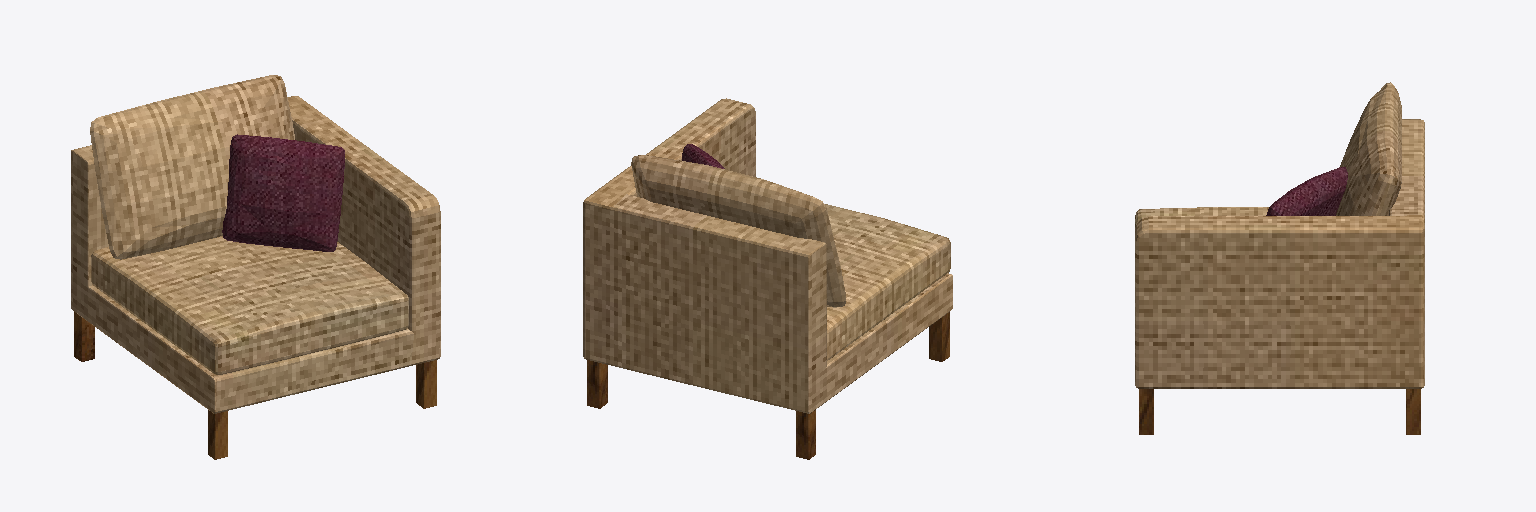
3 views of the same model, side by side, from view 1: azimuth 30°, elevation 25°; view 2: azimuth 150°, elevation 25°; view 3: azimuth 270°, elevation 25° (orthographic).
Visible parts, largest first — view 1: WickerLoveSeat_MSH1; view 2: WickerLoveSeat_MSH1; view 3: WickerLoveSeat_MSH1.
Boxes of the visible parts, <box> form: WickerLoveSeat_MSH1: <box>71,75,440,459</box>; WickerLoveSeat_MSH1: <box>583,98,952,459</box>; WickerLoveSeat_MSH1: <box>1135,82,1424,434</box>.
Size of the model in its own units: 84.32 by 89 by 93.
3 materials, 3 textured.